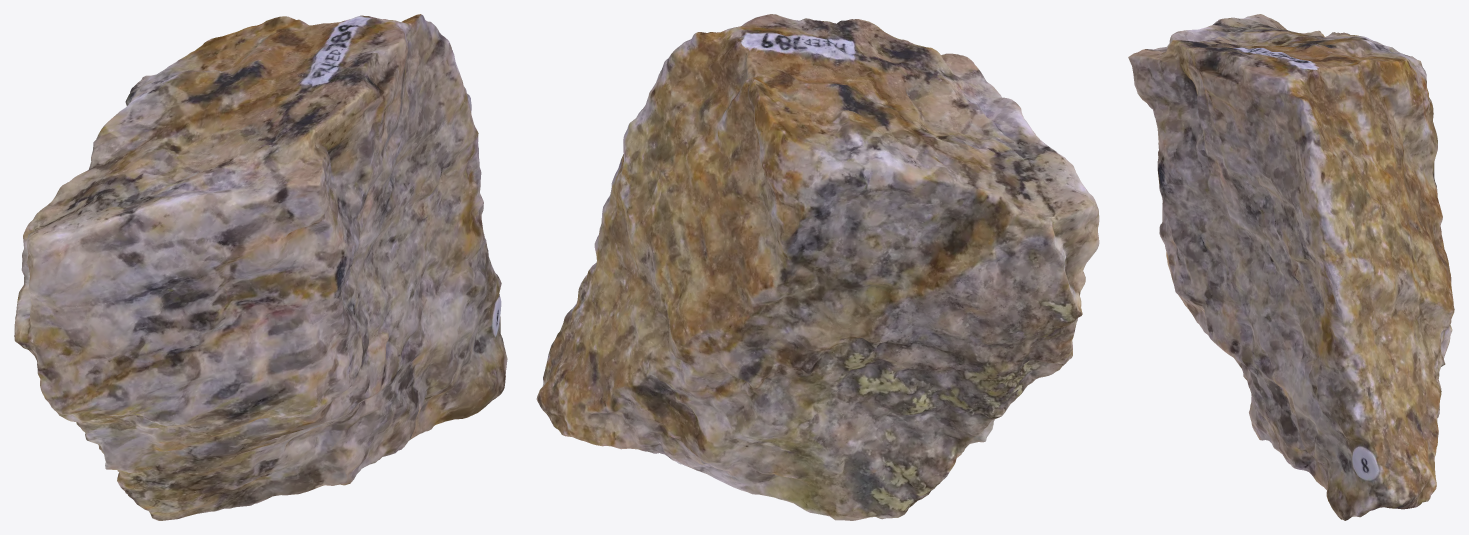
Rendered from pegmatite.glb.
3 views of the same model, side by side, from view 1: azimuth 30°, elevation 25°; view 2: azimuth 150°, elevation 25°; view 3: azimuth 270°, elevation 25° (orthographic). The views are drawn at different scales.
Visible parts, largest first — view 1: Object_2; view 2: Object_2; view 3: Object_2.
Boxes of the visible parts, x1,y1,x2,y2 form: Object_2: (14,14,507,520); Object_2: (536,14,1099,520); Object_2: (1128,14,1454,520).
Size of the model in its own units: 1.82 by 1.53 by 1.07.
1 material, 1 textured.
